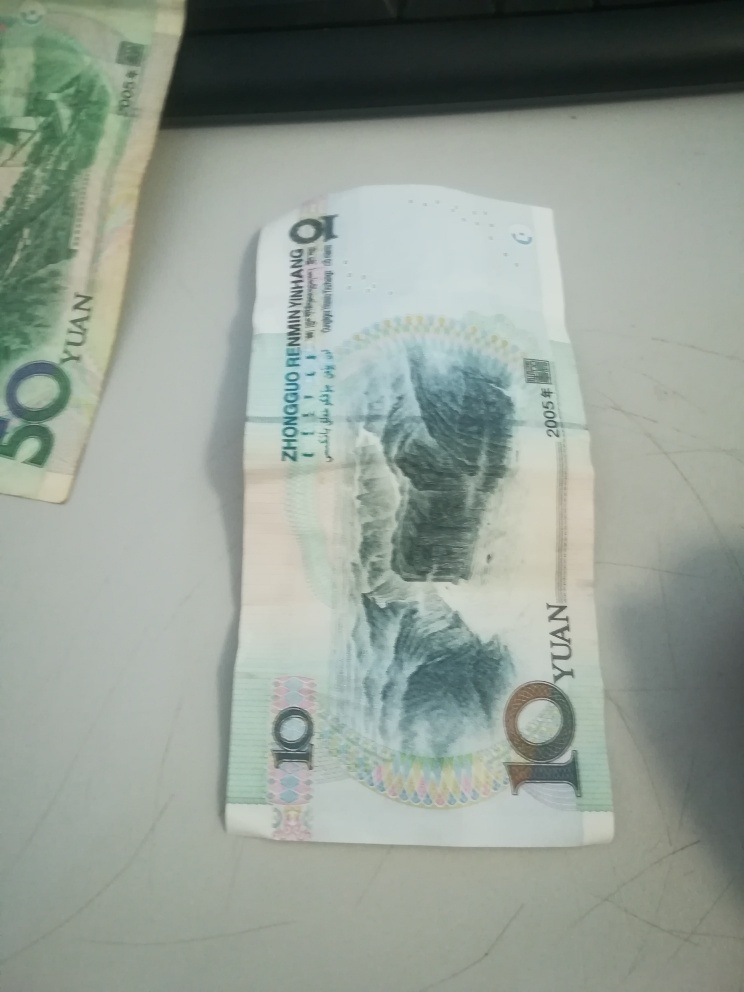rmb: (216, 182, 622, 848), (1, 2, 198, 515)
